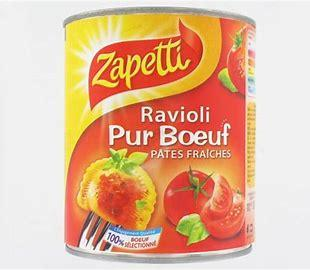metal: (64, 7, 256, 258)
